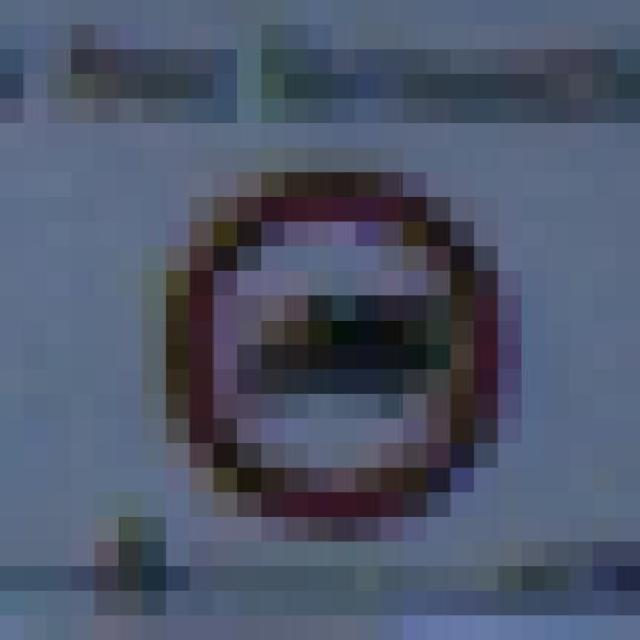Truck traffic is prohibited: (119, 148, 522, 517)
